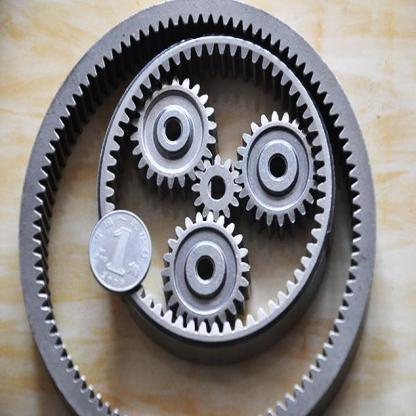FOD: (14, 0, 380, 415), (92, 32, 336, 352), (158, 214, 254, 331), (127, 75, 219, 190), (235, 109, 318, 234), (189, 152, 244, 228)
